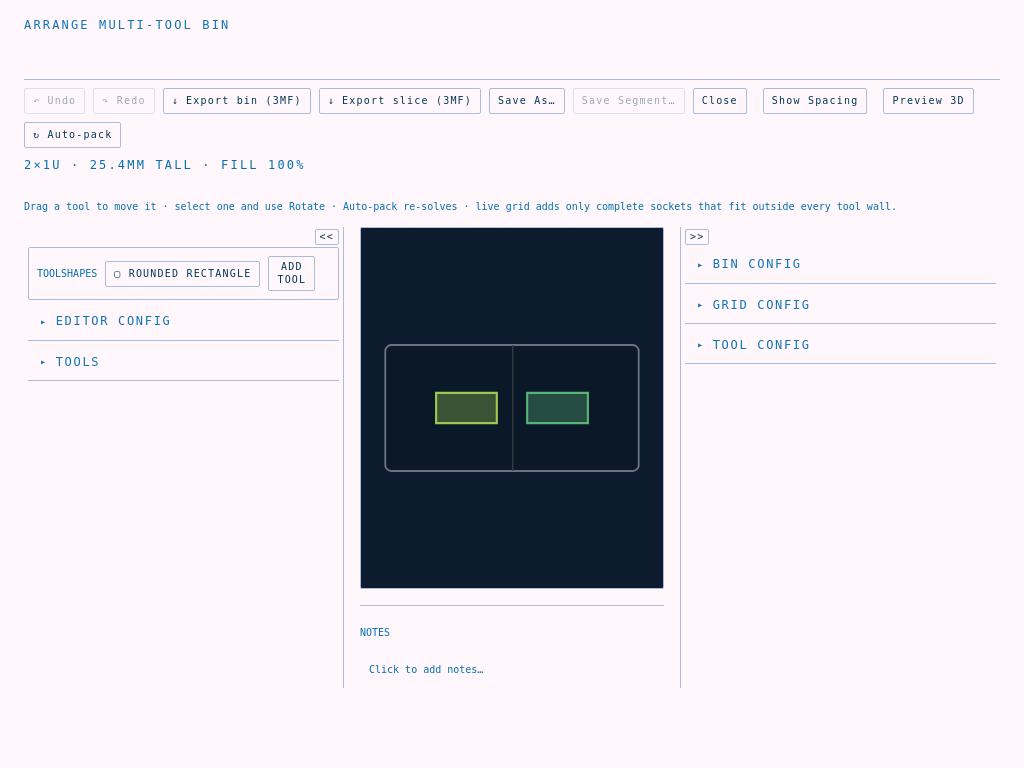
CombineEditor add/remove tools › opens a picker listing the tool library on click
Click the button titled "Add an existing tool from the Tool Library — placed by clicking the grid" at x=292, y=274, box [268,256,315,291]
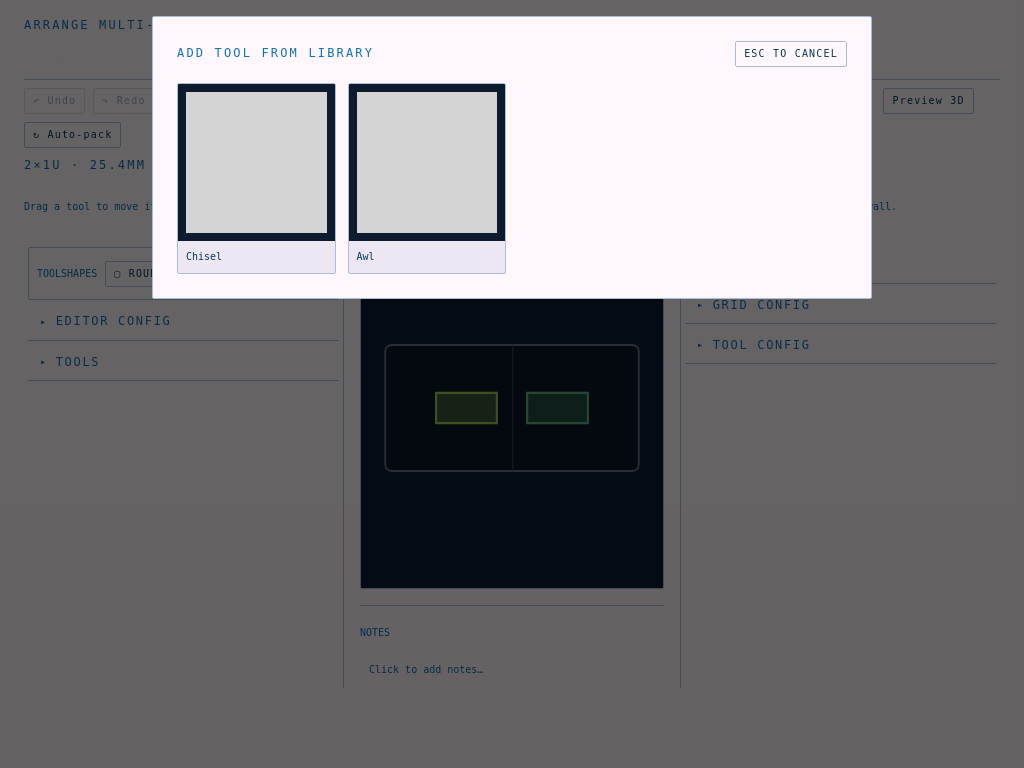
Check: the text "Add tool from library" is shown, box [177,44,374,64]
Check: the text "Chisel" is shown, box [186,250,222,262]
Check: the text "Awl" is shown, box [356,250,375,262]
